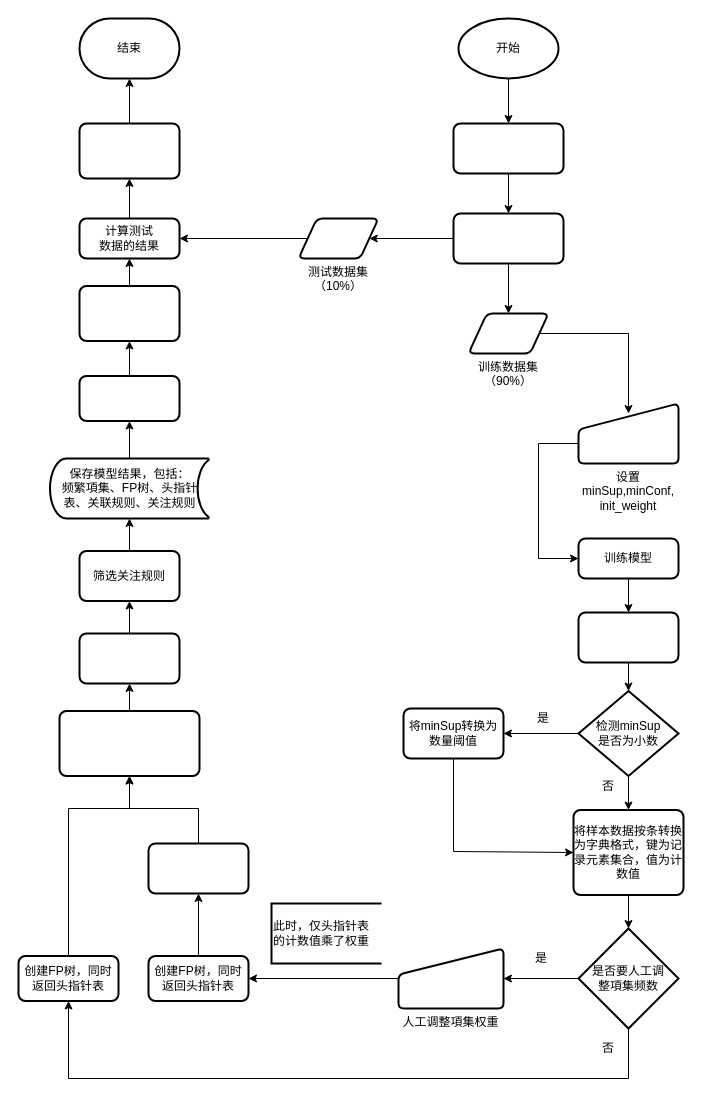
Some shapes in this 701 by 1104 pixel diagram are drawn without their labels. The shapes that lost their labels are listed below. From the top down, each one's centre as x and y in pixels, then its label:
[129,150]: 模型准确性和稳定性评估
[508,148]: 读入原始数据
[508,238]: 切分原始数据集
[129,313]: 导入特征转换分组标准文件，导入关注规则
[129,398]: 模型预测
[628,637]: 训练数据 特征转换
[129,658]: 挖掘关联规则
[129,743]: 查找单元素频繁項集的条件模式基（前缀路径），发现多元素频繁項集
[198,868]: 利用权重更新FP树的结点计数值
